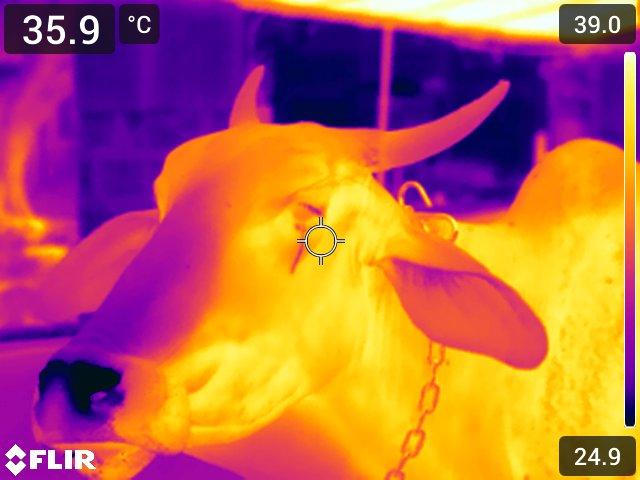ear: (357, 202, 555, 380)
eyes: (286, 191, 338, 269)
